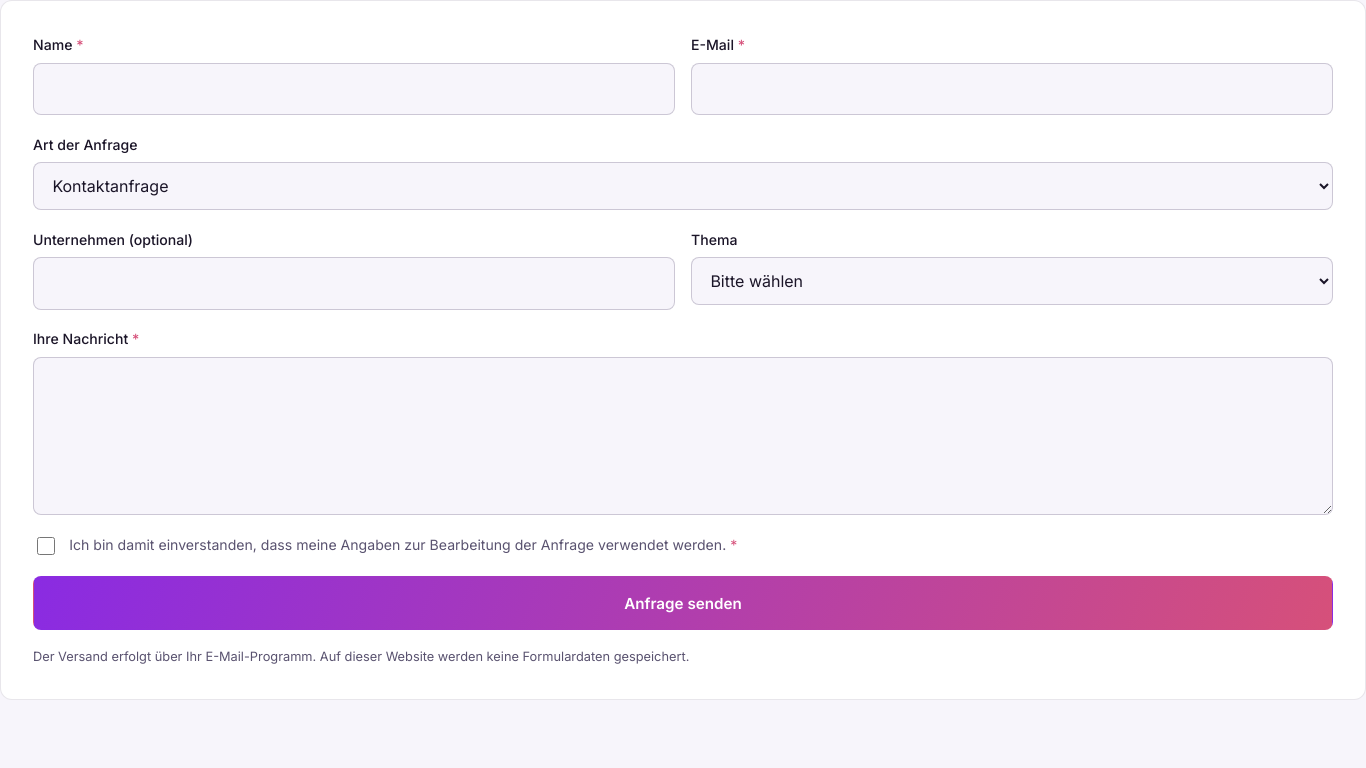
Test case: ContactFormComponent › shows errors and does not submit when invalid
Click the submit button.
click(683, 603)  # box top-left (33, 576), bottom-right (1333, 630)
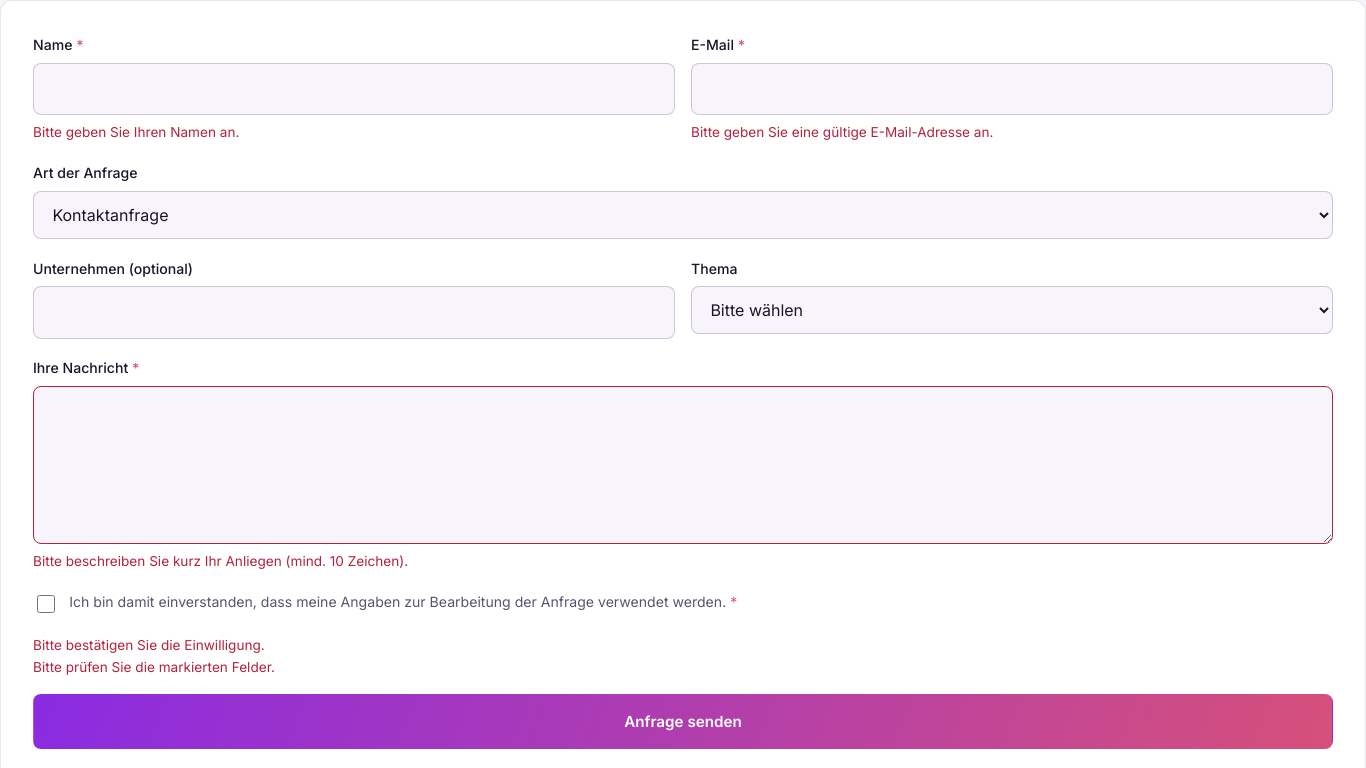
Check: the message with class "form__error" reads "Bitte prüfen Sie die markierten Felder.", box top-left (33, 659), bottom-right (275, 675)
Check: the number of elements with class "field__err" is 4, box top-left (33, 124), bottom-right (239, 140); top-left (691, 124), bottom-right (993, 140); top-left (33, 553), bottom-right (408, 569); top-left (33, 637), bottom-right (265, 653)
